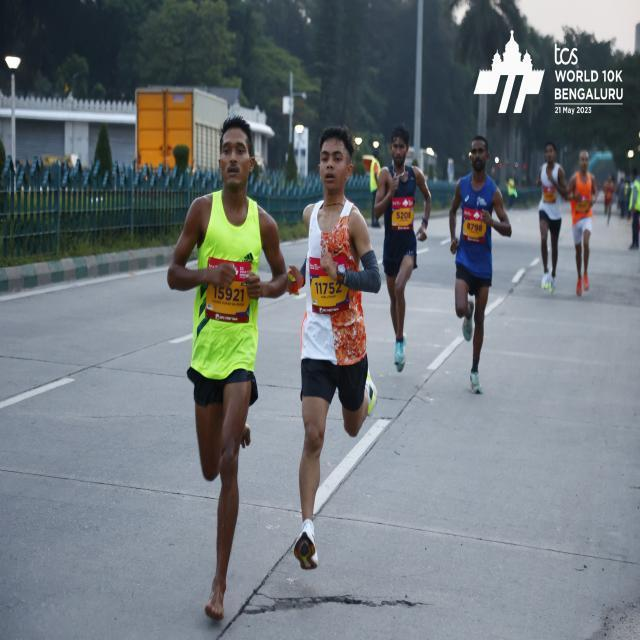dorsal: (208, 254, 256, 323), (308, 258, 346, 315), (463, 204, 486, 244), (392, 196, 414, 230)
